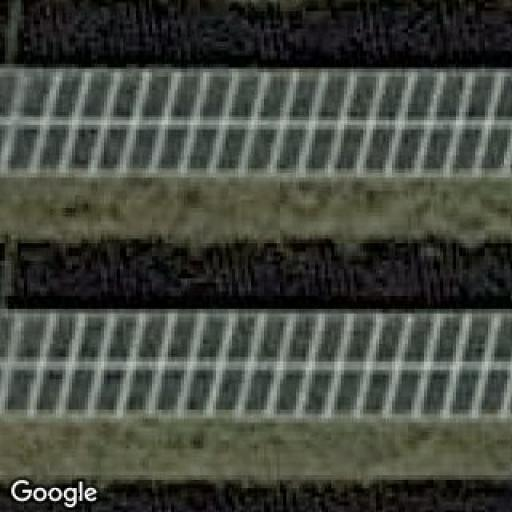solar-panel: (0, 70, 512, 182), (1, 310, 512, 415)
